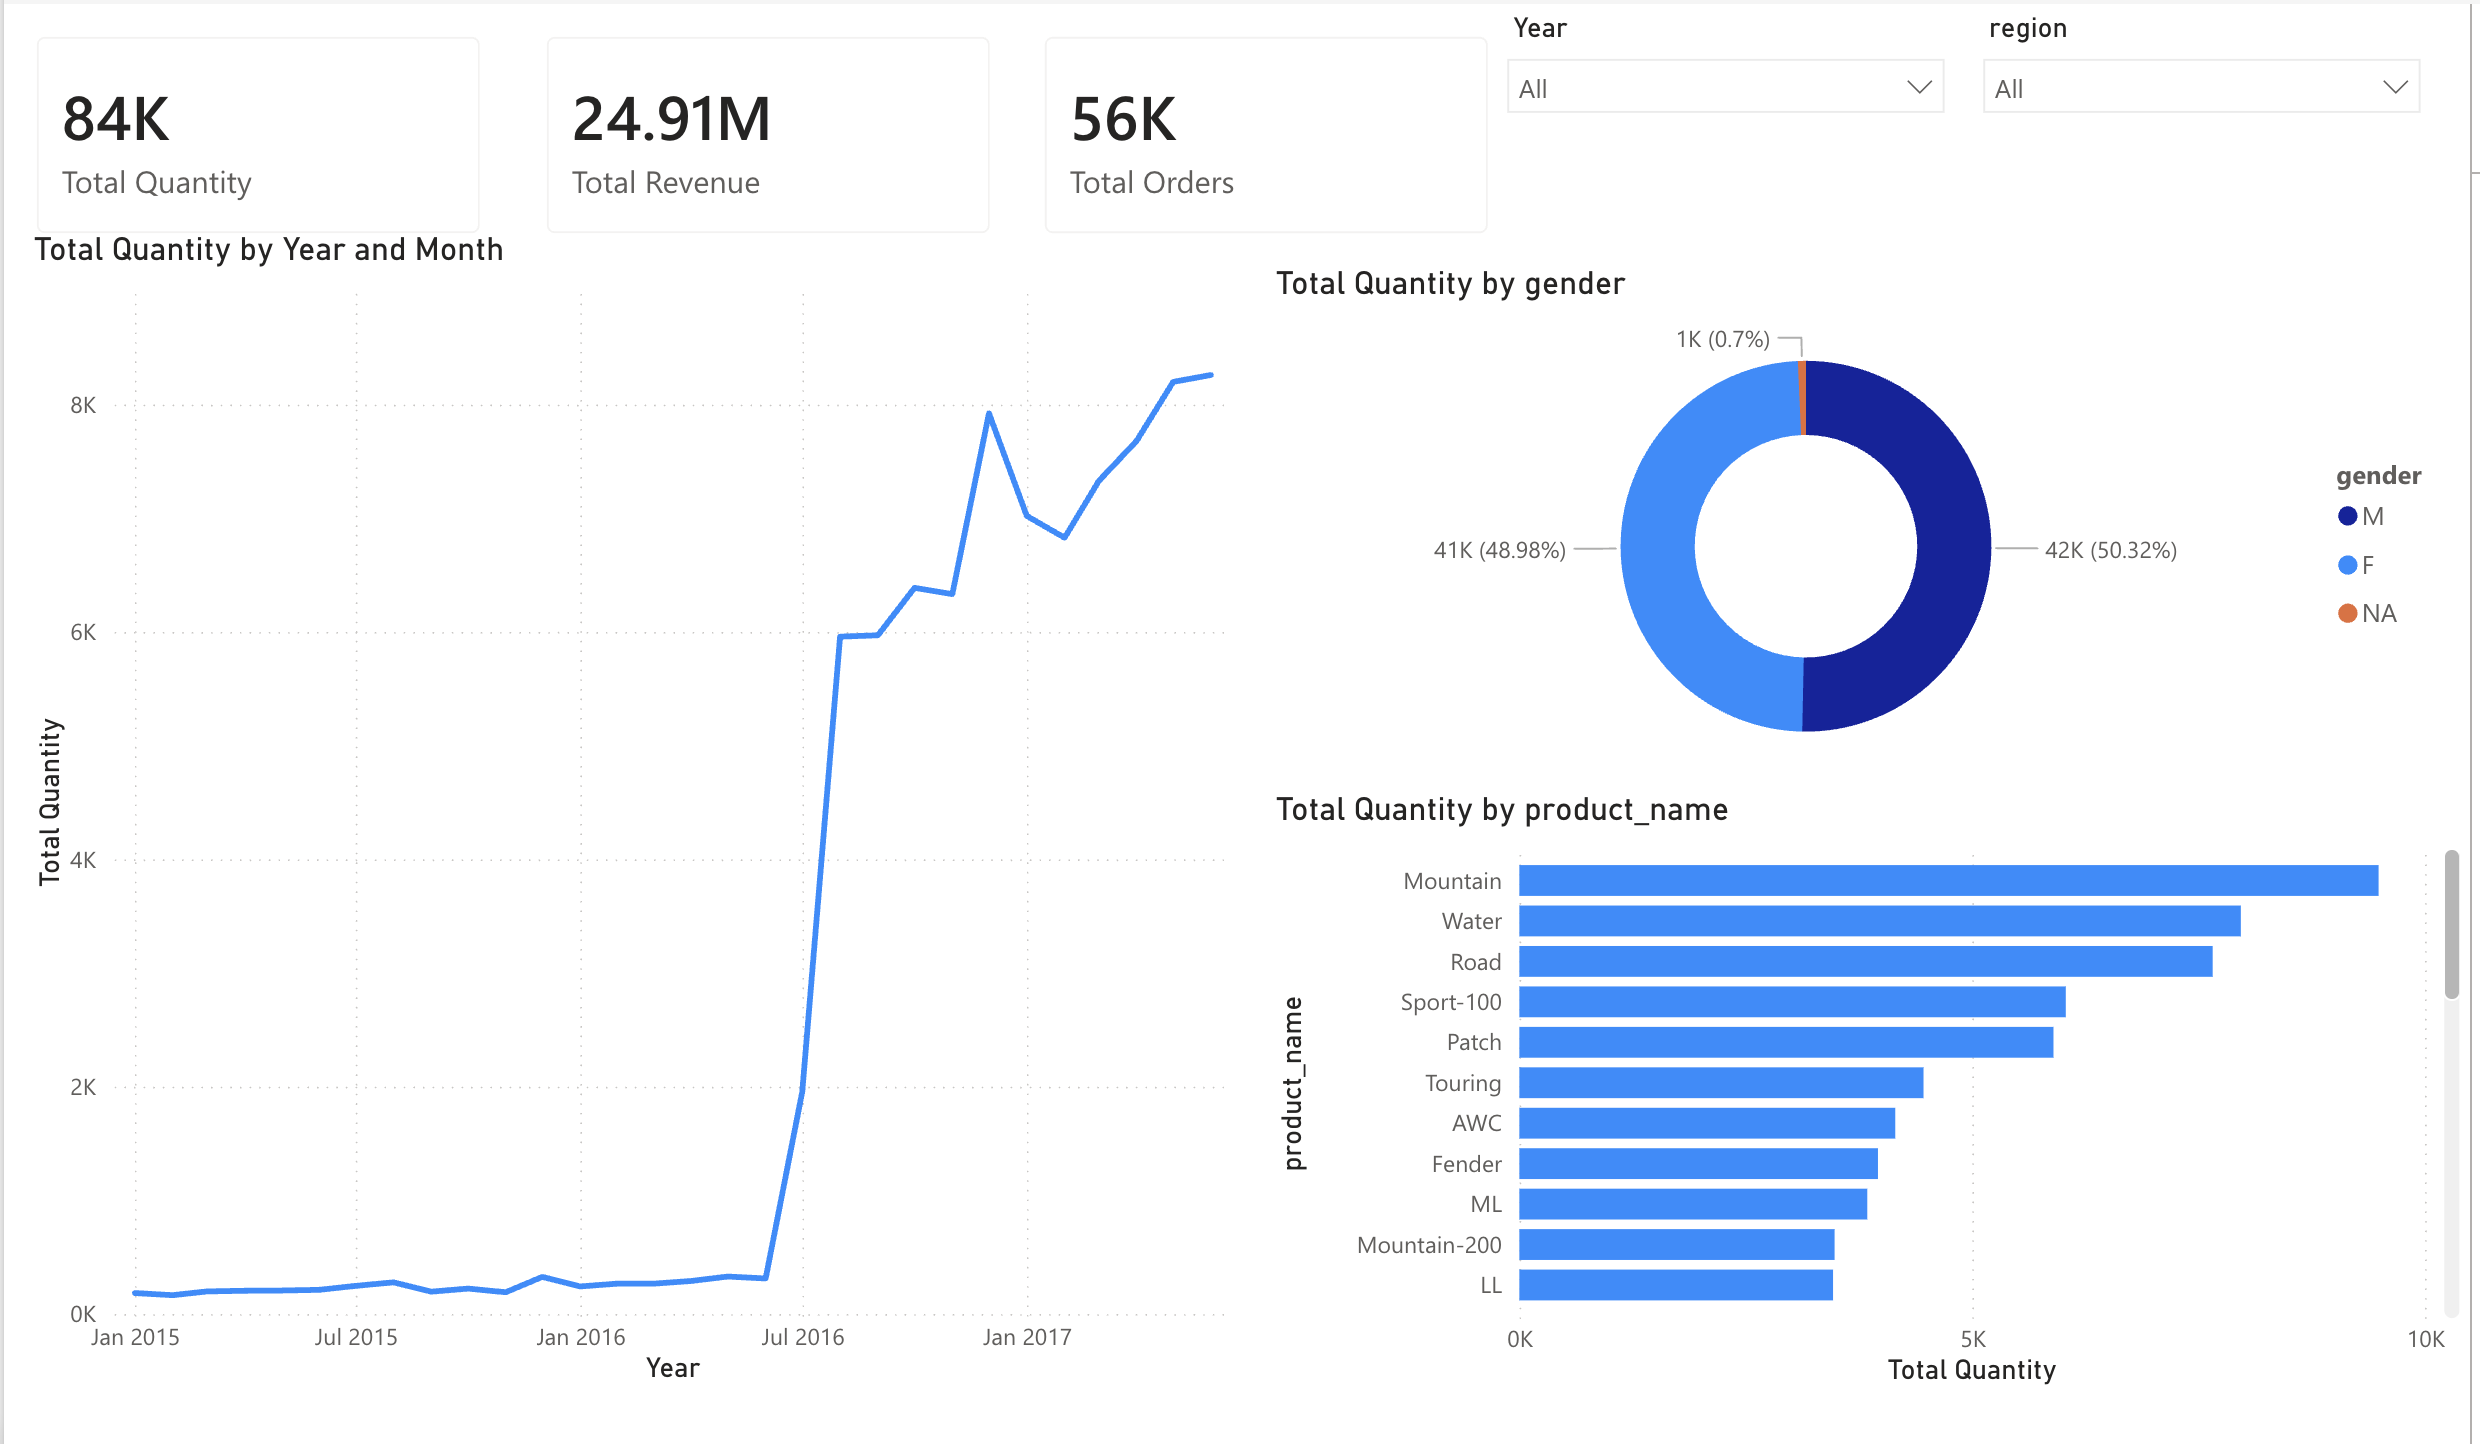

What the dashboard file says about the page in this screenshot:
{"tool":"powerbi","page":{"name":"Page 1","canvas":[1280,720],"ordinal":0},"visuals":[{"type":"cardVisual","fields":{"Data":["rpt vw_sales_analysis.Total Quantity"]},"box":[0,0,264.5,136.7],"z":0},{"type":"cardVisual","fields":{"Data":["rpt vw_sales_analysis.Total Revenue"]},"box":[264.5,0,264.5,136.7],"z":1},{"type":"cardVisual","fields":{"Data":["rpt vw_sales_analysis.Total Orders"]},"box":[523.2,0,264.5,136.7],"z":2},{"type":"lineChart","fields":{"Category":["rpt vw_sales_analysis.order_date.Variation.Date Hierarchy.Year","rpt vw_sales_analysis.order_date.Variation.Date Hierarchy.Month"],"Y":["rpt vw_sales_analysis.Total Quantity"]},"box":[10.3,119,645.1,601.1],"z":3},{"type":"barChart","fields":{"Category":["rpt vw_sales_analysis.product_name"],"Y":["rpt vw_sales_analysis.Total Quantity"]},"box":[655.4,410,624.6,311.6],"z":4},{"type":"donutChart","fields":{"Category":["rpt vw_sales_analysis.gender"],"Y":["rpt vw_sales_analysis.Total Quantity"]},"box":[655.4,136.7,624.6,273.3],"z":5},{"type":"slicer","fields":{"Values":["rpt vw_sales_analysis.order_date.Variation.Date Hierarchy.Year"]},"box":[770.1,0,246.9,119],"z":6},{"type":"slicer","fields":{"Values":["rpt vw_sales_analysis.region"]},"box":[1017,0,246.9,119],"z":7}]}

Visuals, with their boxes on the page's 1280x720 design canvas (x1, y1, x2, y2). These are canvas units, not pixel positions in the 2480x1444 screenshot, which may show the page scaled, cropped or inside an application window:
cardVisual - rpt vw_sales_analysis.Total Quantity: pyautogui.locateOnScreen(0, 0, 264, 137)
cardVisual - rpt vw_sales_analysis.Total Revenue: pyautogui.locateOnScreen(264, 0, 529, 137)
cardVisual - rpt vw_sales_analysis.Total Orders: pyautogui.locateOnScreen(523, 0, 788, 137)
lineChart - rpt vw_sales_analysis.order_date.Variation.Date Hierarchy.Year x rpt vw_sales_analysis.order_date.Variation.Date Hierarchy.Month: pyautogui.locateOnScreen(10, 119, 655, 720)
barChart - rpt vw_sales_analysis.product_name x rpt vw_sales_analysis.Total Quantity: pyautogui.locateOnScreen(655, 410, 1280, 722)
donutChart - rpt vw_sales_analysis.gender x rpt vw_sales_analysis.Total Quantity: pyautogui.locateOnScreen(655, 137, 1280, 410)
slicer - rpt vw_sales_analysis.order_date.Variation.Date Hierarchy.Year: pyautogui.locateOnScreen(770, 0, 1017, 119)
slicer - rpt vw_sales_analysis.region: pyautogui.locateOnScreen(1017, 0, 1264, 119)
